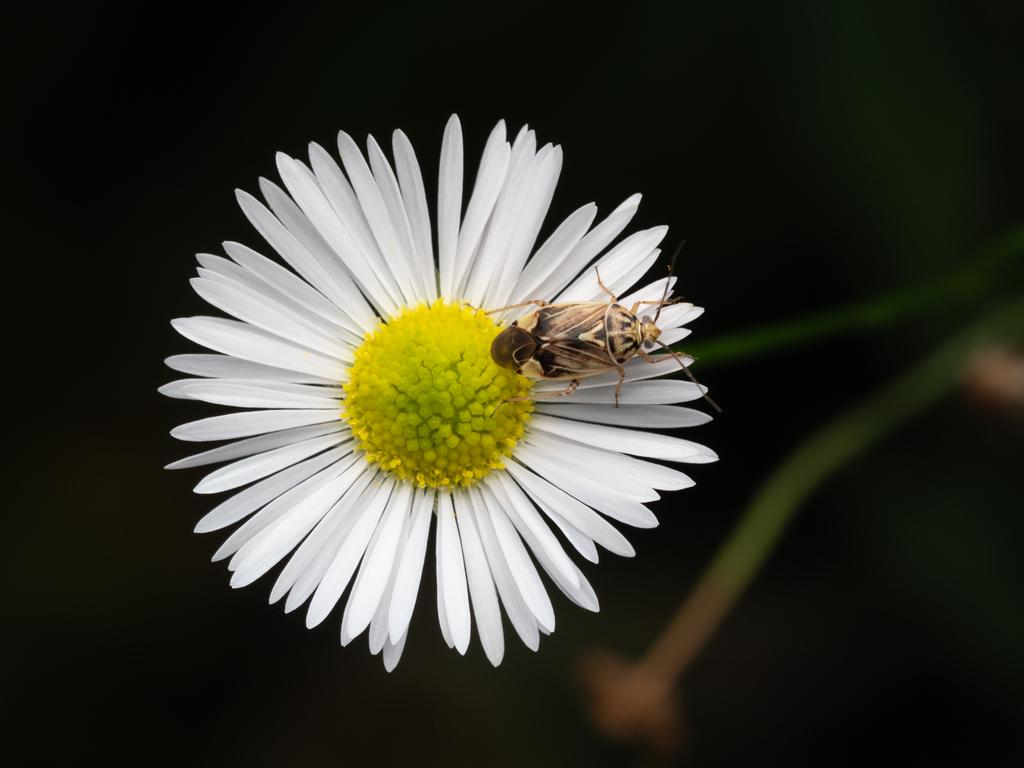plant_bugs: (451, 239, 740, 440)
